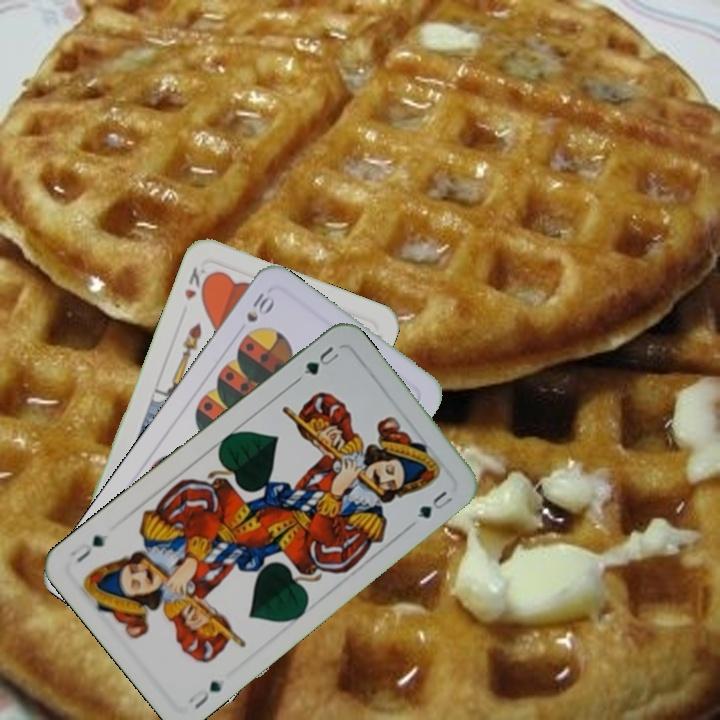GU: (299, 342, 342, 378), (184, 676, 224, 712)
HK: (180, 263, 213, 303)
S10: (242, 288, 279, 325)
